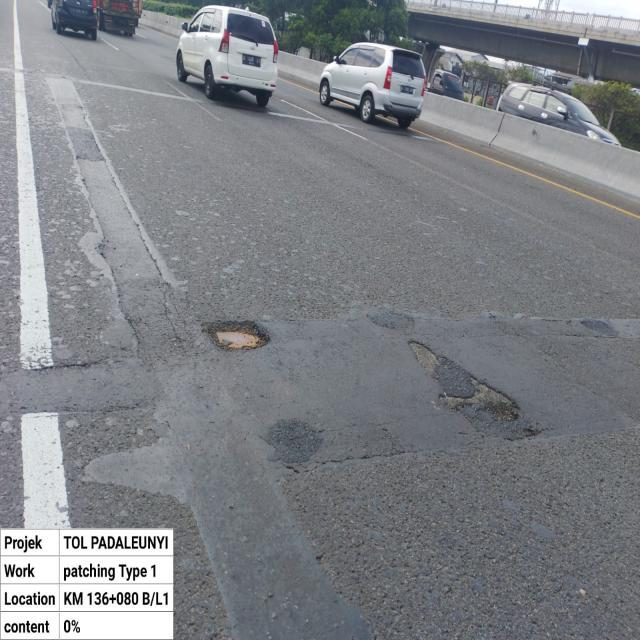Buraco: (434, 373, 525, 425), (198, 318, 274, 354), (404, 337, 444, 373)
